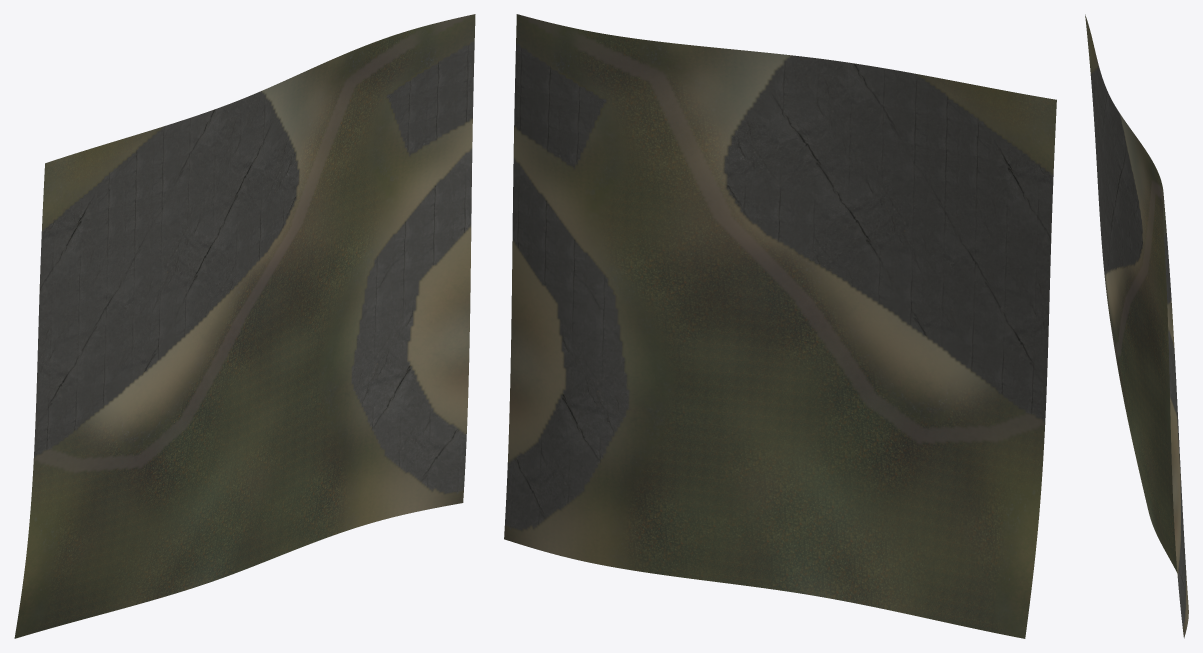
The model's file is ground_core_05_03.obj.
3 views of the same model, side by side, from view 1: azimuth 30°, elevation 25°; view 2: azimuth 150°, elevation 25°; view 3: azimuth 270°, elevation 25° (orthographic). The views are drawn at different scales.
Visible parts, largest first — view 1: ground_core_05_03; view 2: ground_core_05_03; view 3: ground_core_05_03.
Part boxes in pixels (x1=…): ground_core_05_03: x1=14, y1=14, x2=475, y2=638; ground_core_05_03: x1=504, y1=14, x2=1056, y2=638; ground_core_05_03: x1=1085, y1=14, x2=1188, y2=638.
Bounding box in the file's own units: 50 × 50 × 11.03.
1 material, 1 textured.
